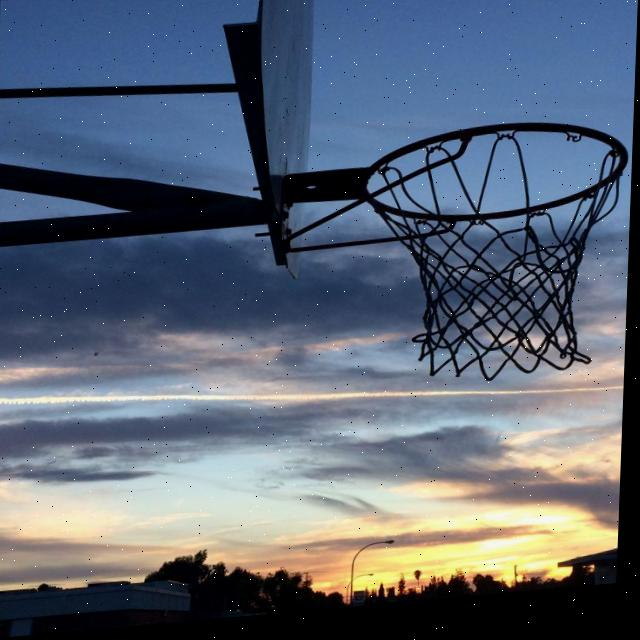hoop: (323, 108, 634, 427)
